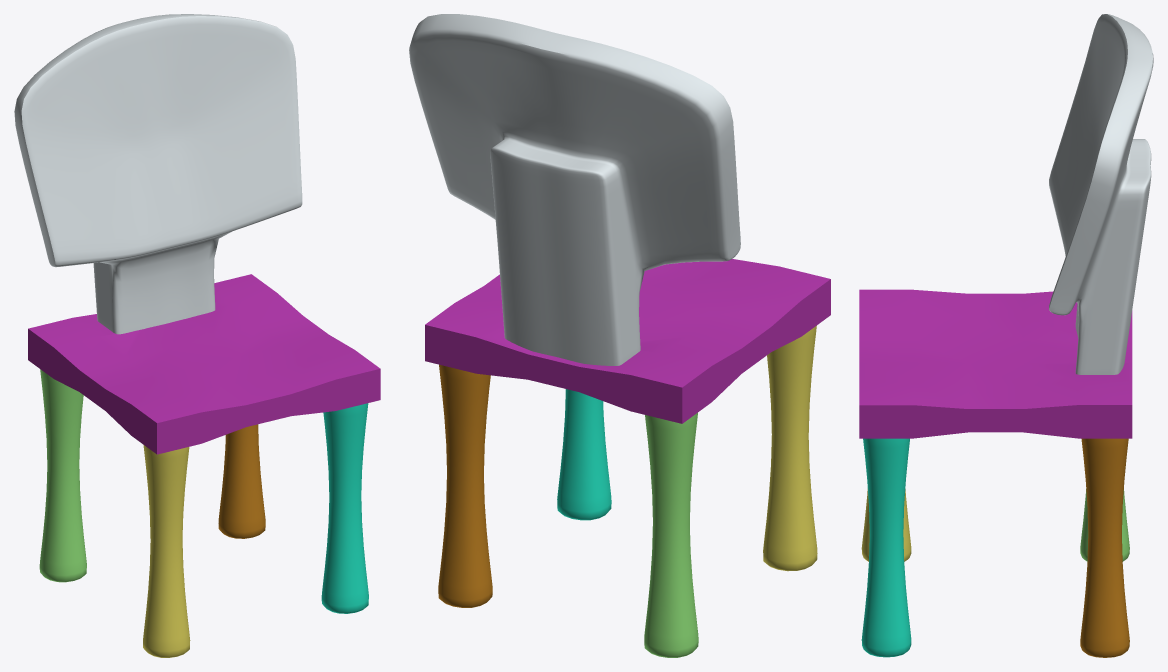
3 renders of one model, left to right at view 1: azimuth 30°, elevation 25°; view 2: azimuth 150°, elevation 25°; view 3: azimuth 270°, elevation 25°, orthographic. The views are drawn at different scales.
Parts seen in each view (by area): view 1: Object_2.005, Object_2, Object_2.004, Object_2.001, Object_2.003, Object_2.002; view 2: Object_2.005, Object_2, Object_2.003, Object_2.002, Object_2.004, Object_2.001; view 3: Object_2, Object_2.005, Object_2.002, Object_2.001, Object_2.004, Object_2.003.
Part boxes in pixels (x1=…): Object_2.005: x1=14, y1=14, x2=302, y2=334; Object_2: x1=28, y1=274, x2=380, y2=454; Object_2.004: x1=143, y1=445, x2=190, y2=657; Object_2.001: x1=321, y1=403, x2=368, y2=613; Object_2.003: x1=39, y1=369, x2=86, y2=582; Object_2.002: x1=218, y1=424, x2=265, y2=538; Object_2.005: x1=409, y1=14, x2=740, y2=365; Object_2: x1=425, y1=259, x2=830, y2=423; Object_2.003: x1=644, y1=412, x2=698, y2=657; Object_2.002: x1=438, y1=364, x2=492, y2=607; Object_2.004: x1=763, y1=325, x2=817, y2=571; Object_2.001: x1=557, y1=389, x2=611, y2=520; Object_2: x1=859, y1=289, x2=1132, y2=438; Object_2.005: x1=1049, y1=14, x2=1153, y2=374; Object_2.002: x1=1080, y1=438, x2=1129, y2=657; Object_2.001: x1=861, y1=438, x2=911, y2=657; Object_2.004: x1=861, y1=489, x2=911, y2=561; Object_2.003: x1=1080, y1=489, x2=1129, y2=561.
Bounding box in the file's own units: 0.5494 × 1 × 0.4843.
